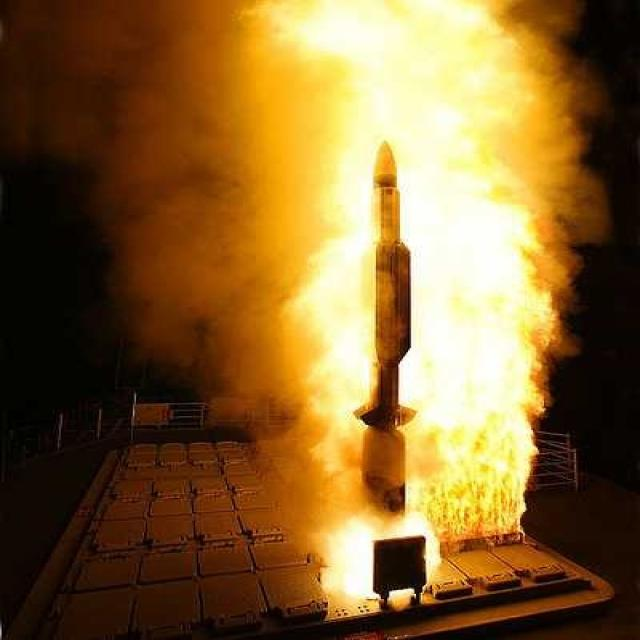missile: (359, 138, 418, 527)
